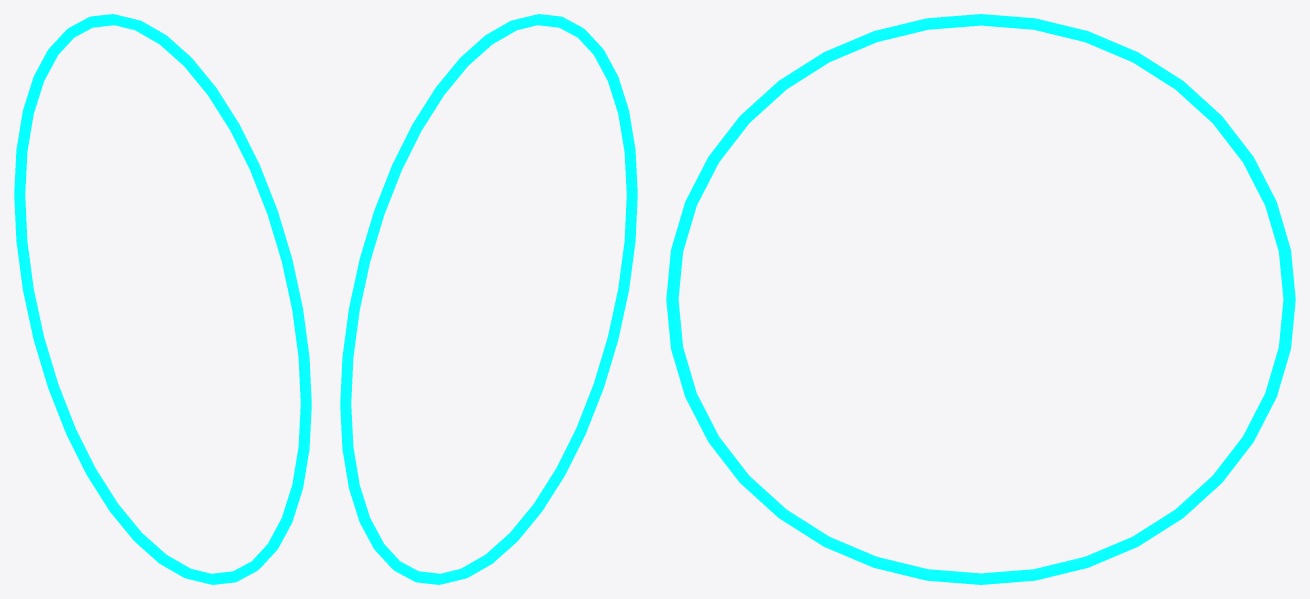
3 views of the same model, side by side, from view 1: azimuth 30°, elevation 25°; view 2: azimuth 150°, elevation 25°; view 3: azimuth 270°, elevation 25° (orthographic). The views are drawn at different scales.
Parts seen in each view (by area): view 1: Torus.001; view 2: Torus.001; view 3: Torus.001.
Part boxes in pixels (<box>): Torus.001: <box>14,14,311,584</box>; Torus.001: <box>340,14,637,584</box>; Torus.001: <box>666,14,1295,584</box>.
Size of the model in its own units: 4 by 204 by 204.
